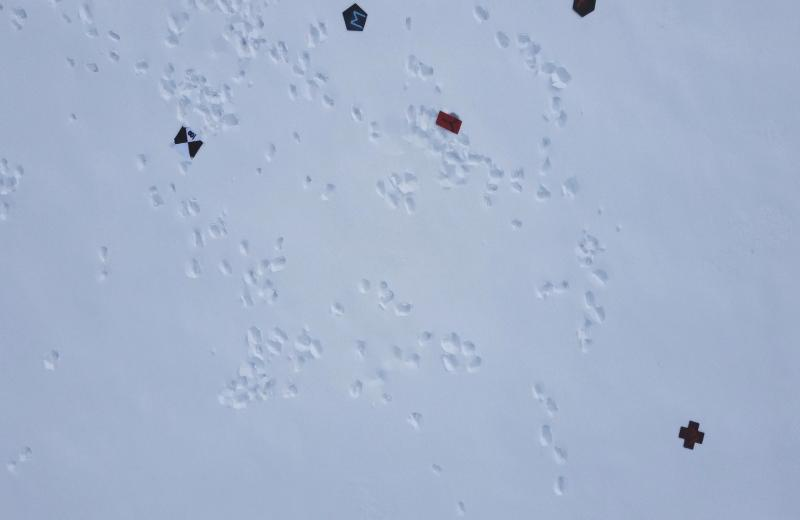Cross: (676, 414, 705, 450)
Pentagon: (339, 0, 369, 35)
Rectangle: (432, 104, 466, 134)
